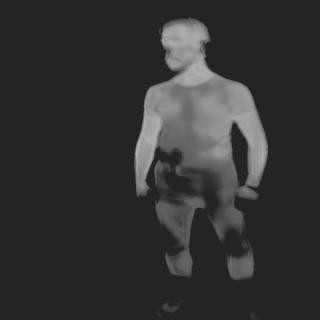Gun: (152, 146, 183, 192)
